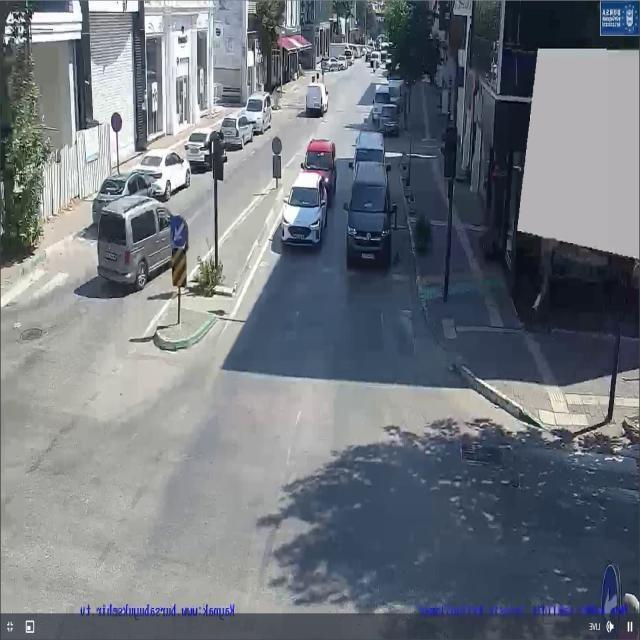Car: (97, 201, 186, 295), (342, 162, 394, 272), (276, 172, 333, 256), (134, 149, 198, 201), (298, 135, 345, 199), (91, 173, 142, 219), (240, 88, 278, 133), (185, 127, 222, 170), (216, 117, 250, 150), (379, 100, 406, 136)
Van: (349, 130, 395, 168), (301, 82, 334, 114), (367, 79, 392, 120)
